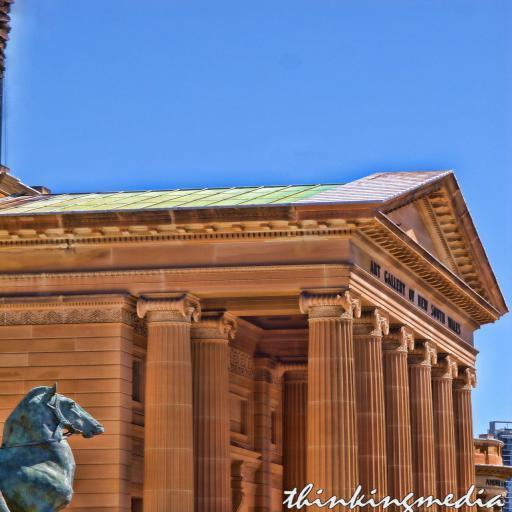horse: (0, 386, 96, 512)
